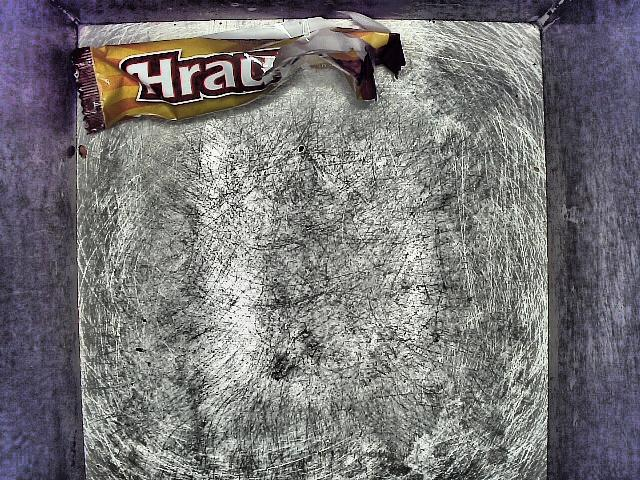Plastic: (68, 26, 419, 128)
